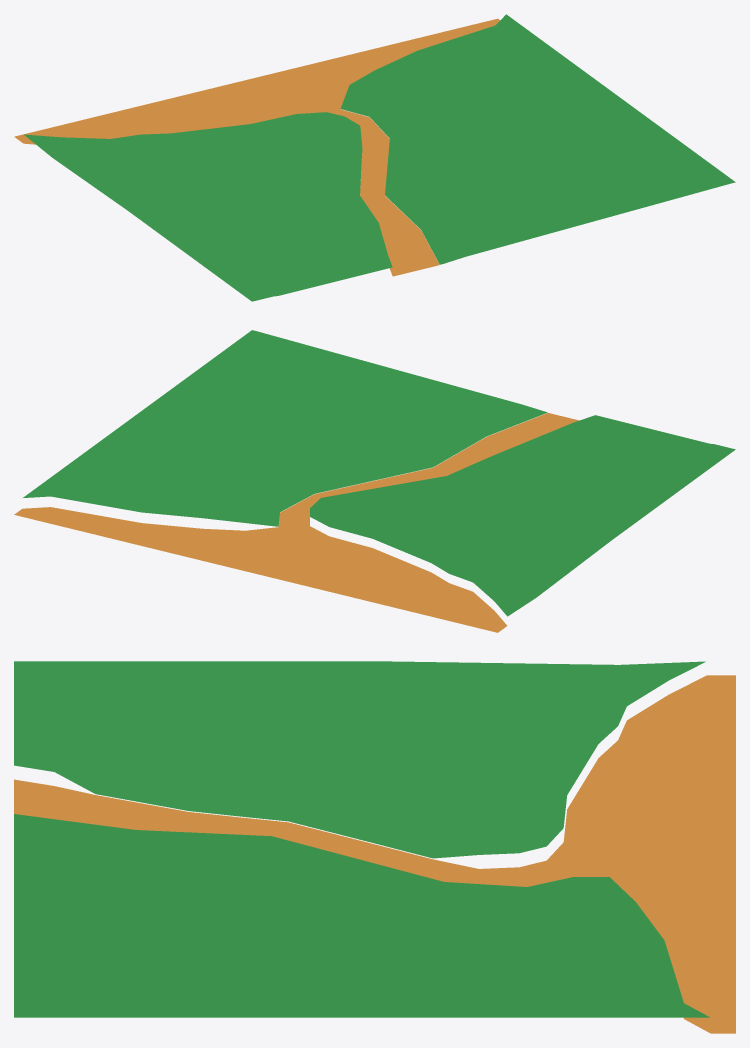
Rendered from forest_navmesh.glb.
3 views of the same model, one above another, from view 1: azimuth 30°, elevation 25°; view 2: azimuth 150°, elevation 25°; view 3: azimuth 270°, elevation 25° (orthographic). The views are drawn at different scales.
Visible parts, largest first — view 1: Plane; view 2: Plane; view 3: Plane.
Part boxes in pixels (left/top/right/bottom): Plane: left=14, top=14, right=735, bottom=301; Plane: left=14, top=330, right=735, bottom=632; Plane: left=14, top=661, right=735, bottom=1033.
Bounding box in the file's own units: 78.03 × 1.62 × 66.49.
